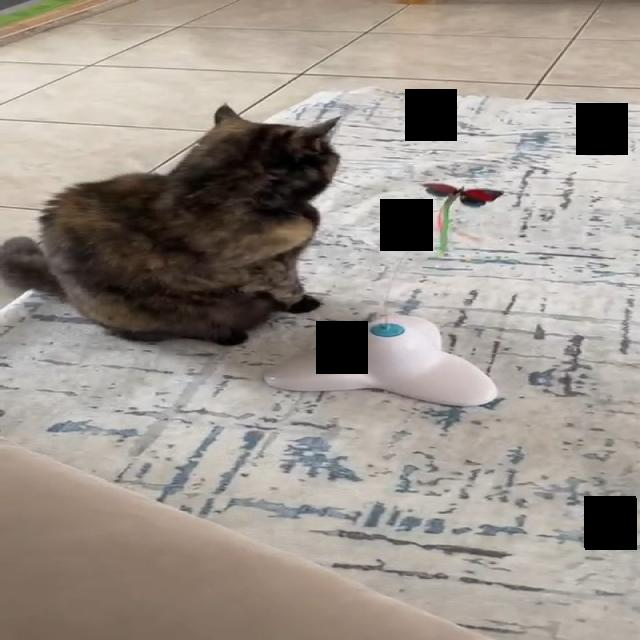authorized: (0, 102, 343, 346)
